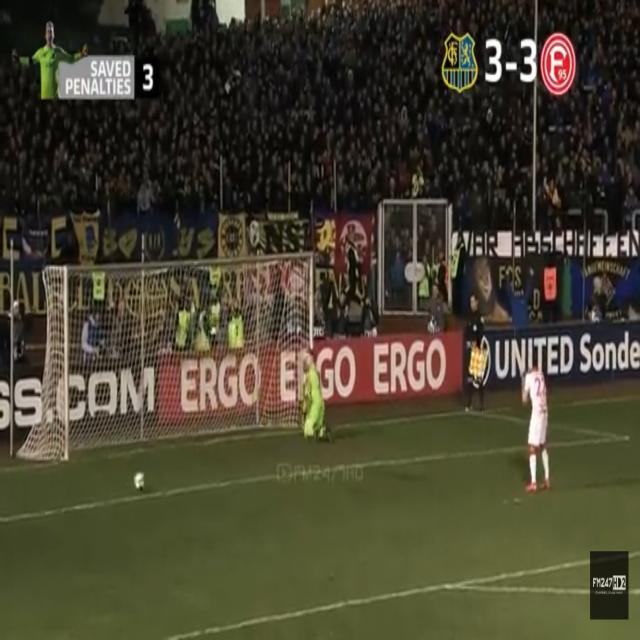right-top: (190, 256, 312, 267)
soccer-goal: (68, 255, 312, 460)
